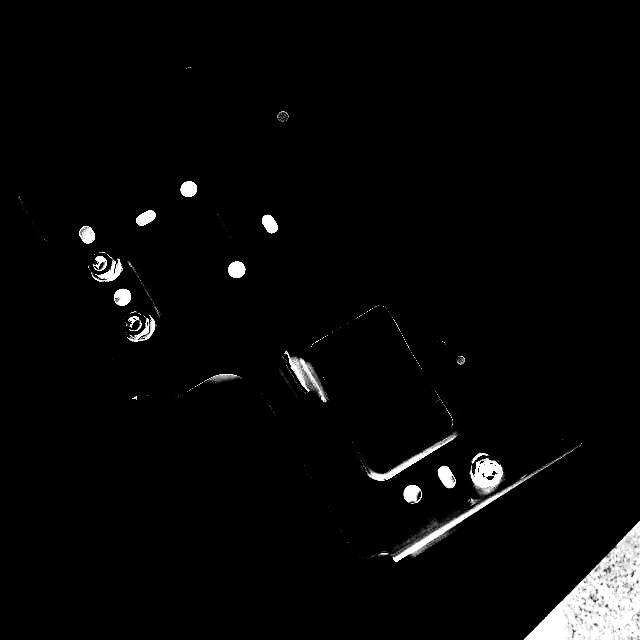dog: (468, 450, 506, 490), (120, 308, 156, 344), (84, 250, 123, 283)
